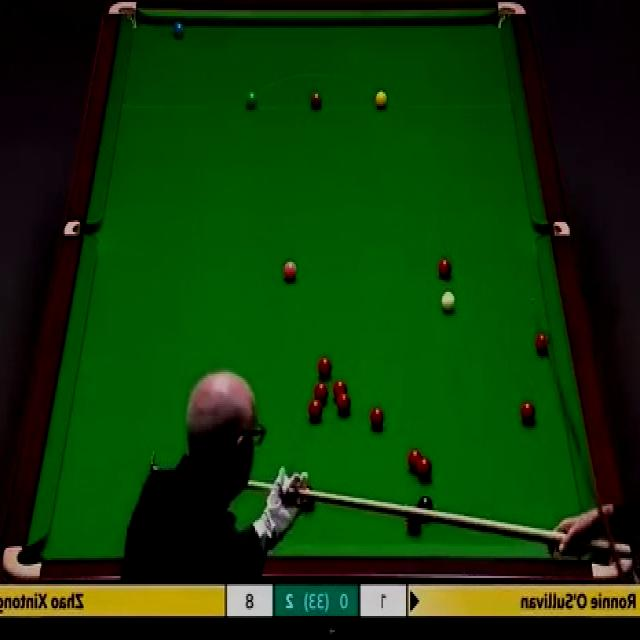pocket: (3, 540, 44, 586), (495, 1, 531, 32), (106, 1, 140, 32), (64, 220, 103, 235), (541, 222, 570, 236)
